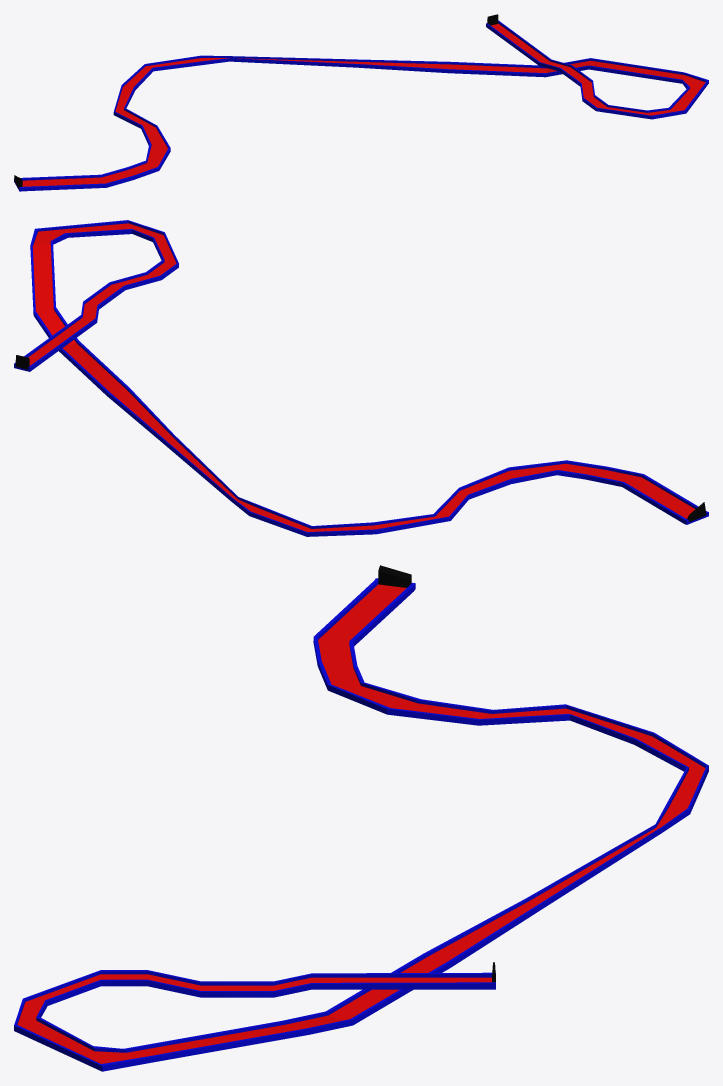
File: Track3.fbx
3 renders of one model, top to bottom at view 1: azimuth 30°, elevation 25°; view 2: azimuth 150°, elevation 25°; view 3: azimuth 270°, elevation 25°, orthographic. The views are drawn at different scales.
Visible parts, largest first — view 1: pCube1; view 2: pCube1; view 3: pCube1.
Part boxes in pixels (x1,y1,x2,y2): pCube1: [14, 14, 708, 191]; pCube1: [14, 220, 708, 536]; pCube1: [14, 565, 708, 1071].
Size of the model in its own units: 180 by 7.67 by 102.
